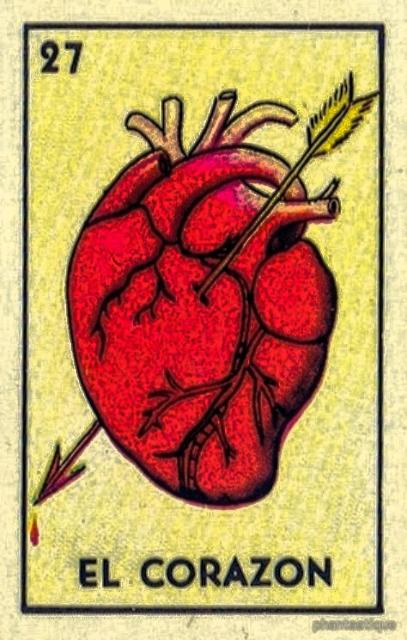El Corazon: (11, 6, 407, 638)
